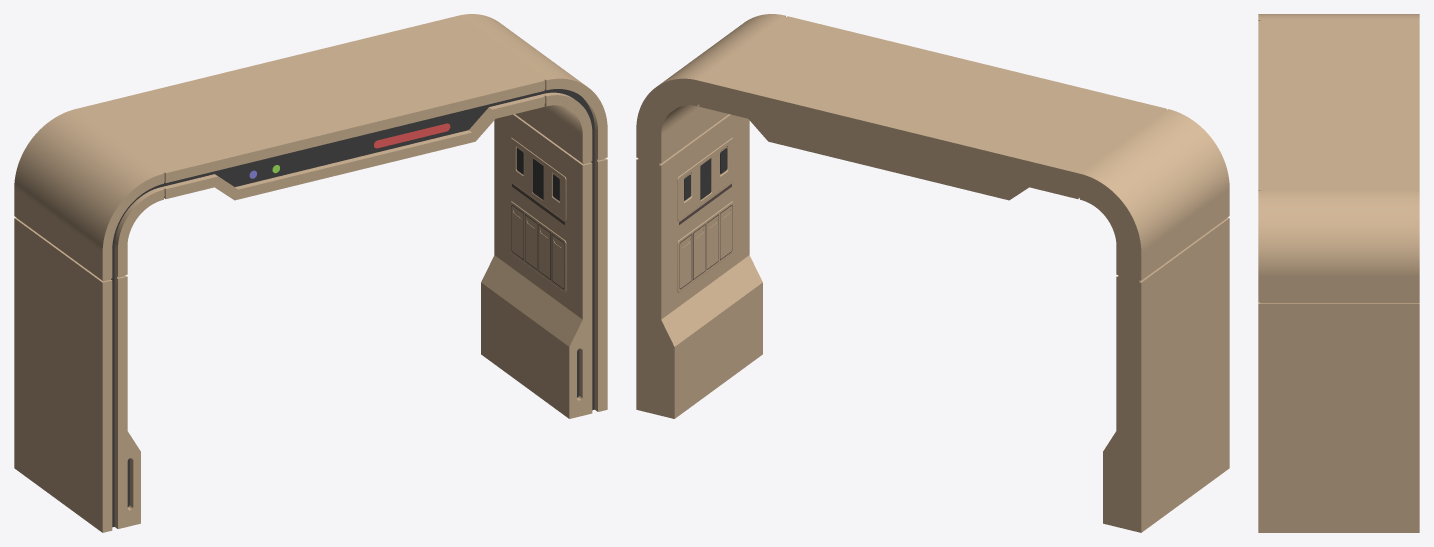
Rendered from holoarch.dae.
The picture shows the model from 3 angles, left to right: view 1: azimuth 30°, elevation 25°; view 2: azimuth 150°, elevation 25°; view 3: azimuth 270°, elevation 25°; orthographic projection. The views are drawn at different scales.
Visible parts, largest first — view 1: SketchUp (×5); view 2: SketchUp (×4); view 3: SketchUp.
Part boxes in pixels (<box>): SketchUp (×5): <box>14,14,607,532</box>; SketchUp (×4): <box>636,14,1229,532</box>; SketchUp: <box>1258,14,1419,532</box>.
Bounding box in the file's own units: 132 × 40 × 86.
